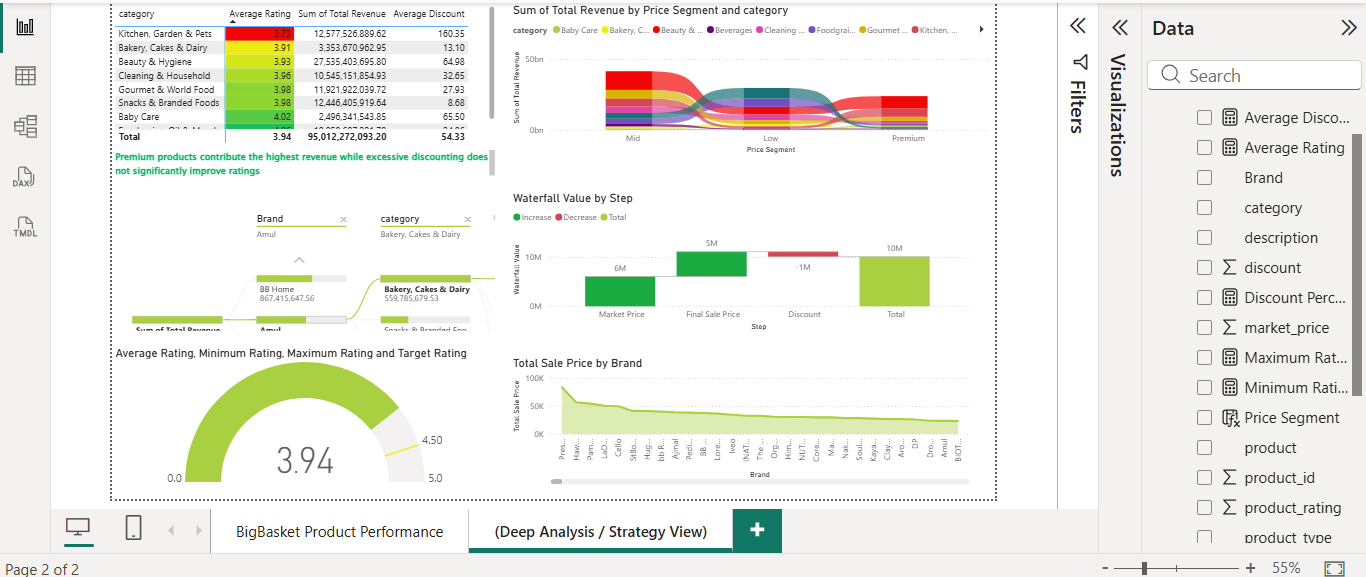

This screenshot's page, from the dashboard's own definition file:
{"tool":"powerbi","page":{"name":"(Deep Analysis / Strategy View)","canvas":[1280,720],"ordinal":1},"visuals":[{"type":"decompositionTreeVisual","fields":{"Analyze":["Sum(public products.Total Revenue)"],"ExplainBy":["public products.Brand","public products.category","public products.Price Segment","public products.sub_category"]},"box":[0,288,560,192],"z":0},{"type":"pivotTable","fields":{"Rows":["public products.category"],"Values":["public products.Average Rating","Sum(public products.Total Revenue)","public products.Average Discount"]},"box":[0,0,560,208],"z":1000},{"type":"textbox","box":[0,208,560,48],"z":2000},{"type":"ribbonChart","fields":{"Category":["public products.Price Segment"],"Series":["public products.category"],"Y":["Sum(public products.Total Revenue)"]},"box":[576,0,704,224],"z":3000},{"type":"waterfallChart","fields":{"Y":["Price Flow.Waterfall Value"],"Category":["Price Flow.Step"]},"box":[576,272,672,208],"z":4000},{"type":"gauge","fields":{"Y":["public products.Average Rating"],"TargetValue":["public products.Target Rating"],"MinValue":["public products.Minimum Rating"],"MaxValue":["public products.Maximum Rating"]},"box":[0,496,560,208],"z":5000},{"type":"areaChart","fields":{"Y":["public products.Total Sale Price"],"Category":["public products.Brand"]},"box":[576,512,672,192],"z":6000}]}

Visuals, with their boxes on the page's 1280x720 design canvas (x1, y1, x2, y2). These are canvas units, not pixel positions in the 1366x577 screenshot, which may show the page scaled, cropped or inside an application window:
decompositionTreeVisual - Sum(public products.Total Revenue) x public products.Brand: crop(0, 288, 560, 480)
pivotTable - public products.category x public products.Average Rating: crop(0, 0, 560, 208)
textbox: crop(0, 208, 560, 256)
ribbonChart - public products.Price Segment x public products.category: crop(576, 0, 1280, 224)
waterfallChart - Price Flow.Waterfall Value x Price Flow.Step: crop(576, 272, 1248, 480)
gauge - public products.Average Rating x public products.Target Rating: crop(0, 496, 560, 704)
areaChart - public products.Total Sale Price x public products.Brand: crop(576, 512, 1248, 704)
